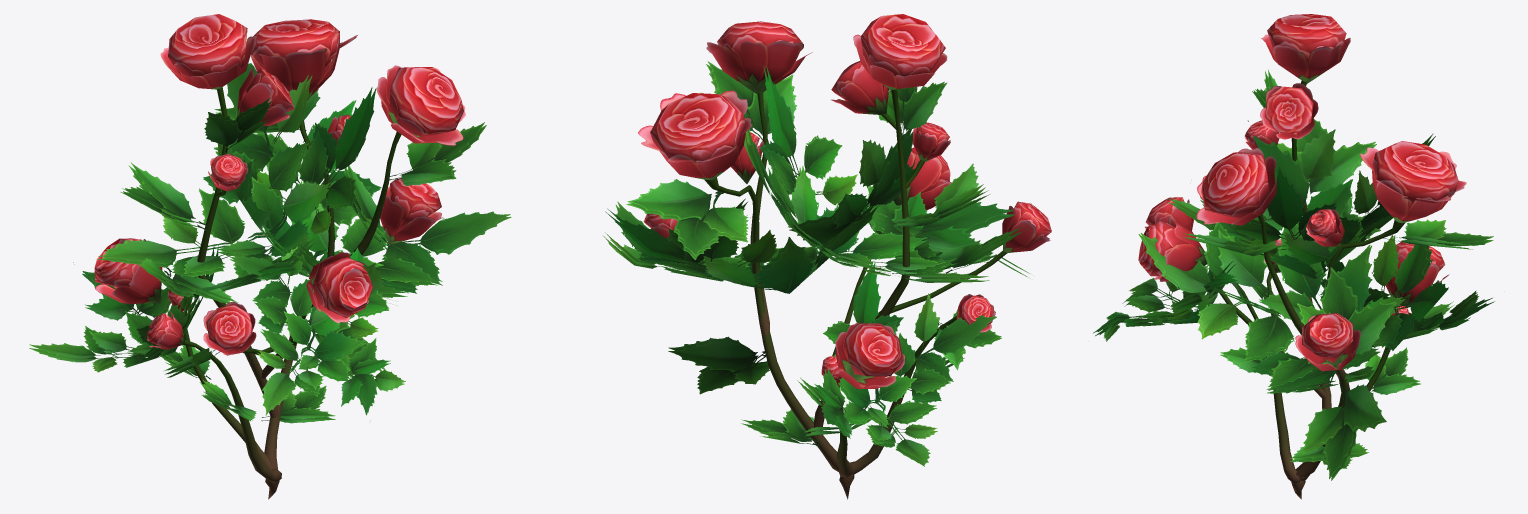
The model's file is SE_Rose_11.fbx.
3 views of the same model, side by side, from view 1: azimuth 30°, elevation 25°; view 2: azimuth 150°, elevation 25°; view 3: azimuth 270°, elevation 25° (orthographic). The views are drawn at different scales.
Parts seen in each view (by area): view 1: SE_Rose_11; view 2: SE_Rose_11; view 3: SE_Rose_11.
Part boxes in pixels (left/top/right/bottom): SE_Rose_11: left=29, top=14, right=511, bottom=499; SE_Rose_11: left=603, top=14, right=1051, bottom=499; SE_Rose_11: left=1093, top=14, right=1494, bottom=499.
Bounding box in the file's own units: 5.24 × 5.55 × 4.74.
